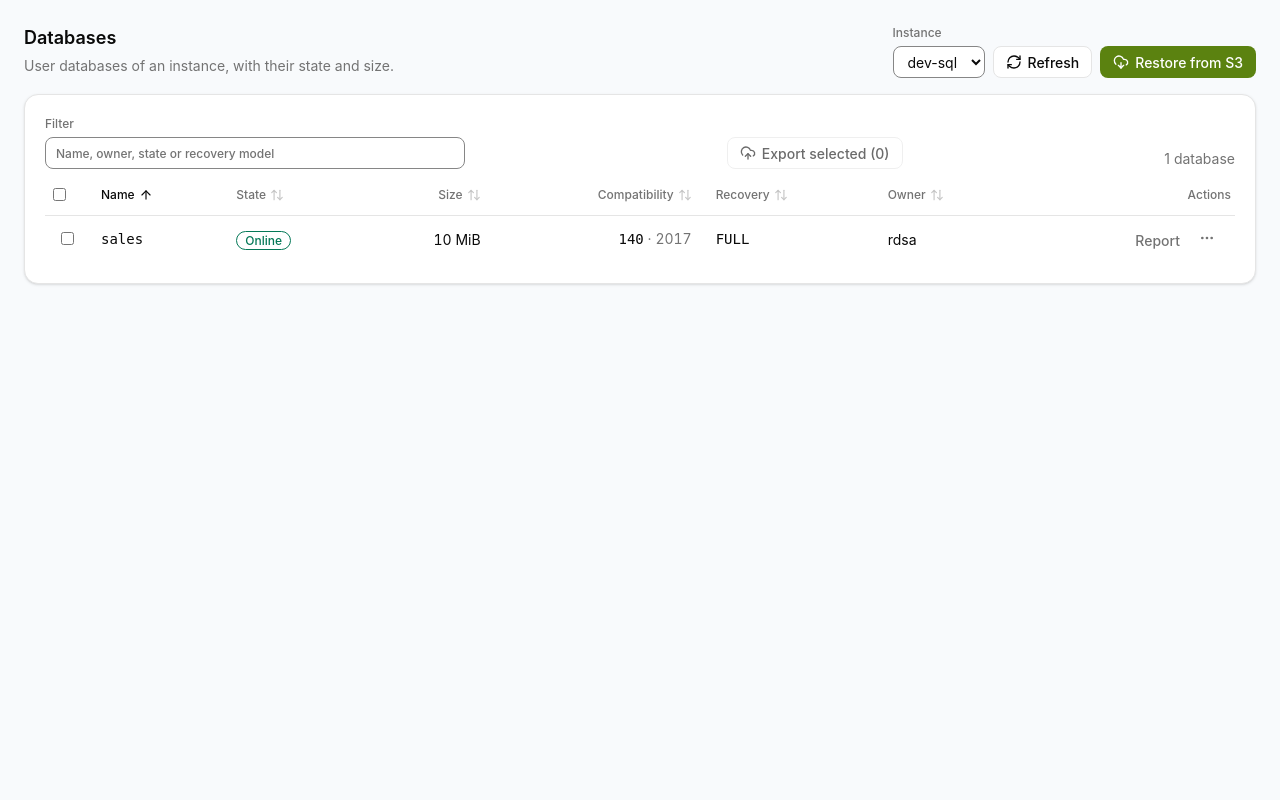
Test: Restore from S3 over an existing database › sends drop without the safety backup when it is switched off
Expected: the column heading "Actions" is shown, [1019,181,1235,215]
Click the button "Restore from S3" at (1178, 62), box [1100,46,1256,78]
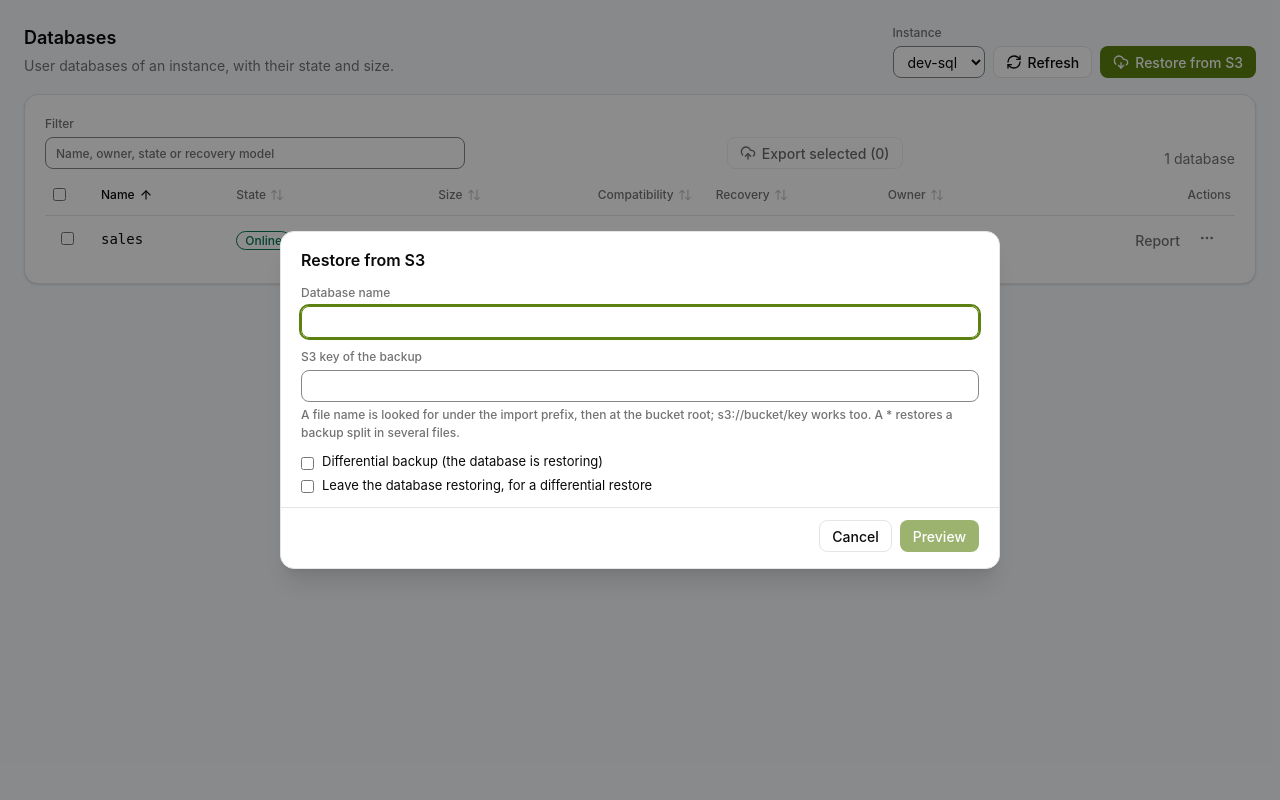
Type "sales" into the field labelled "Database name" at (640, 322), box [301,306,979,338]
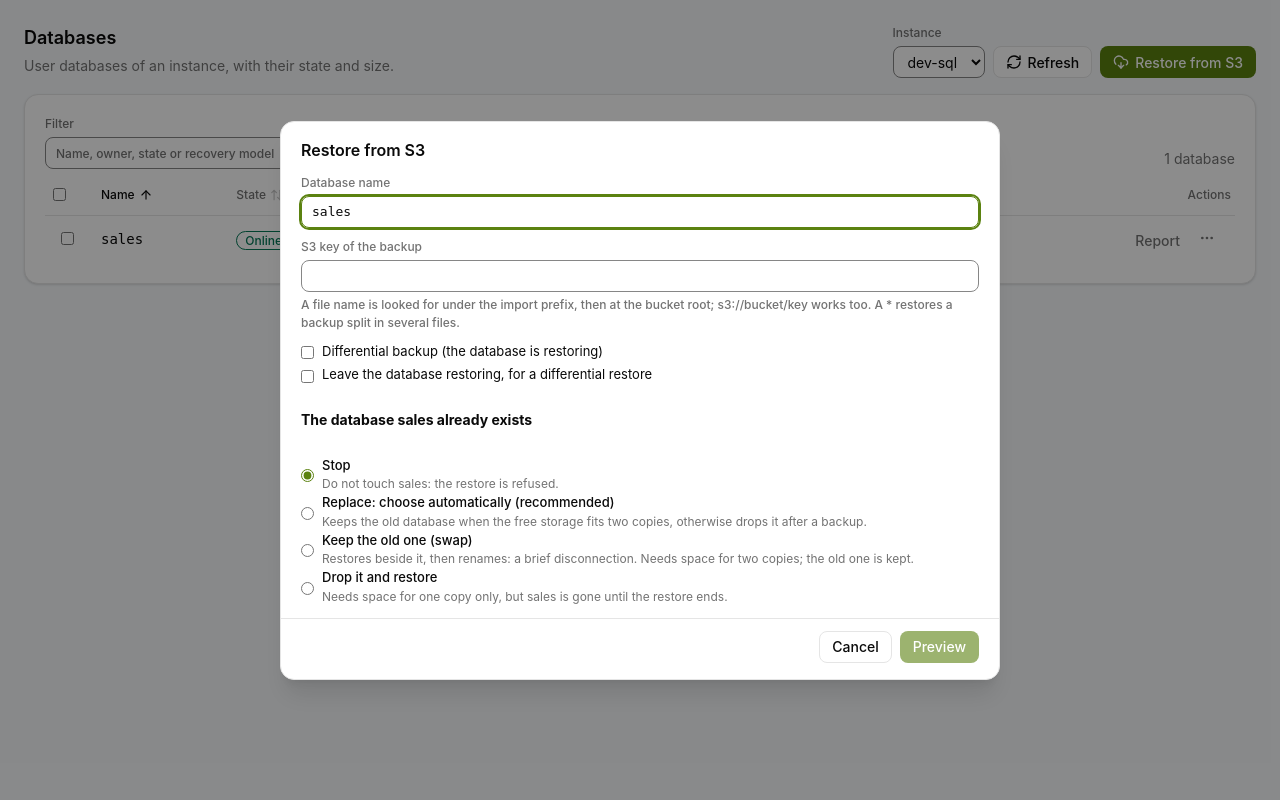
Type "sales.bak" into the field labelled "S3 key of the backup" at (640, 276), box [301,260,979,292]
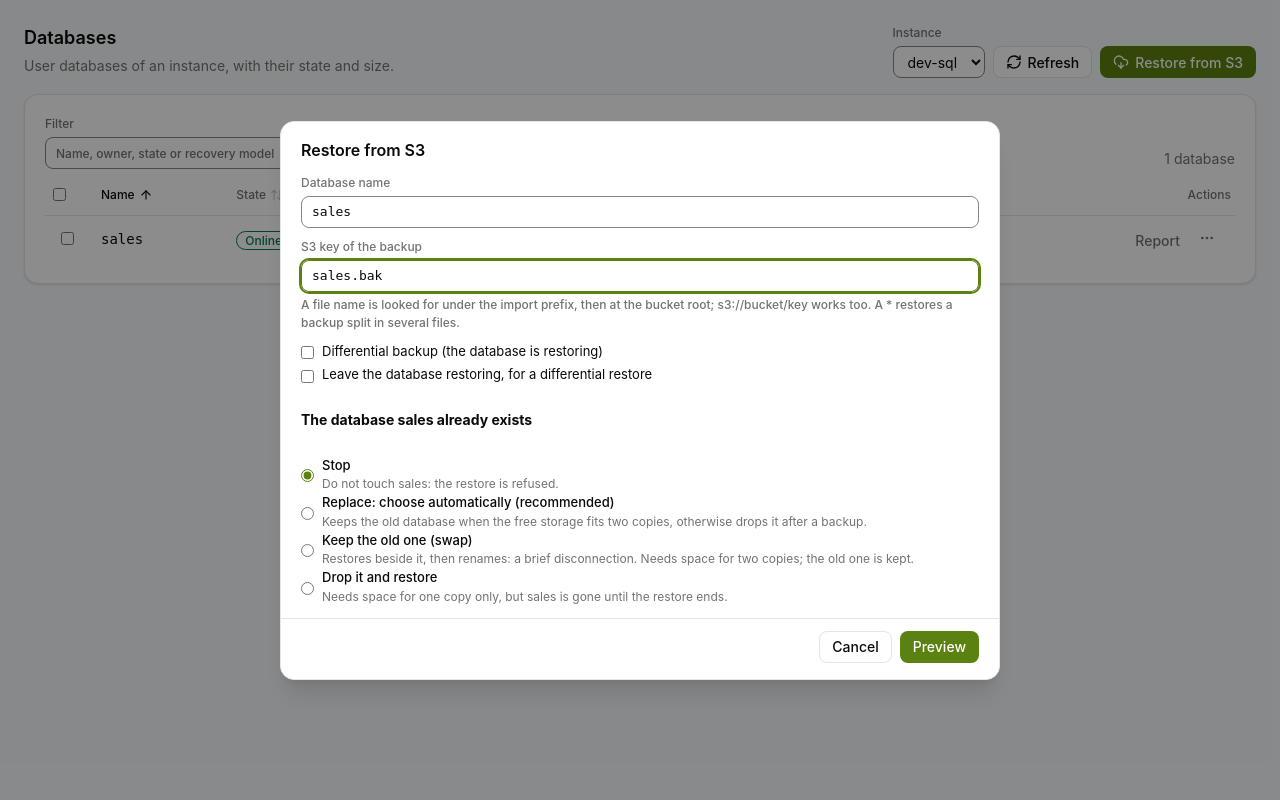
Click the radio button labelled "Drop it and restore" at (308, 588), box [301,582,314,595]
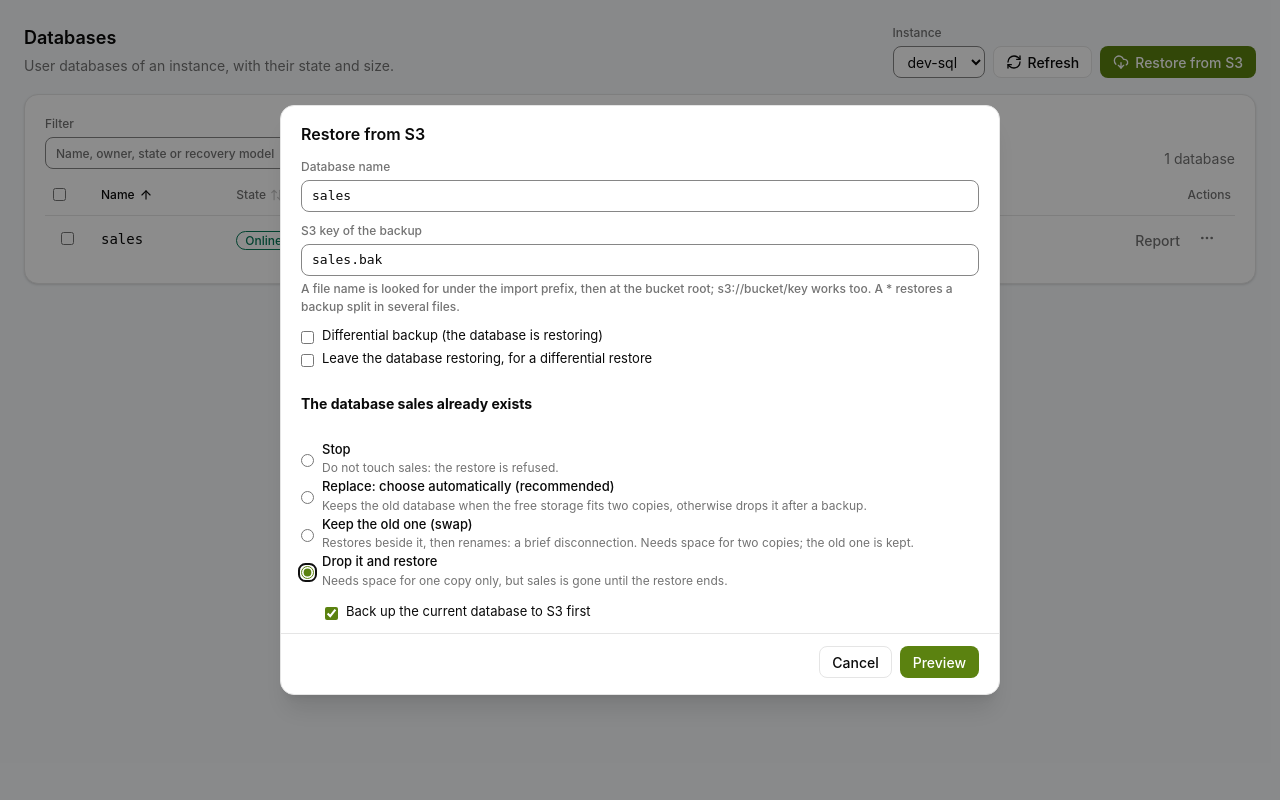
Click the checkbox labelled "Back up the current database to S3 first" at (332, 613), box [325,606,338,620]
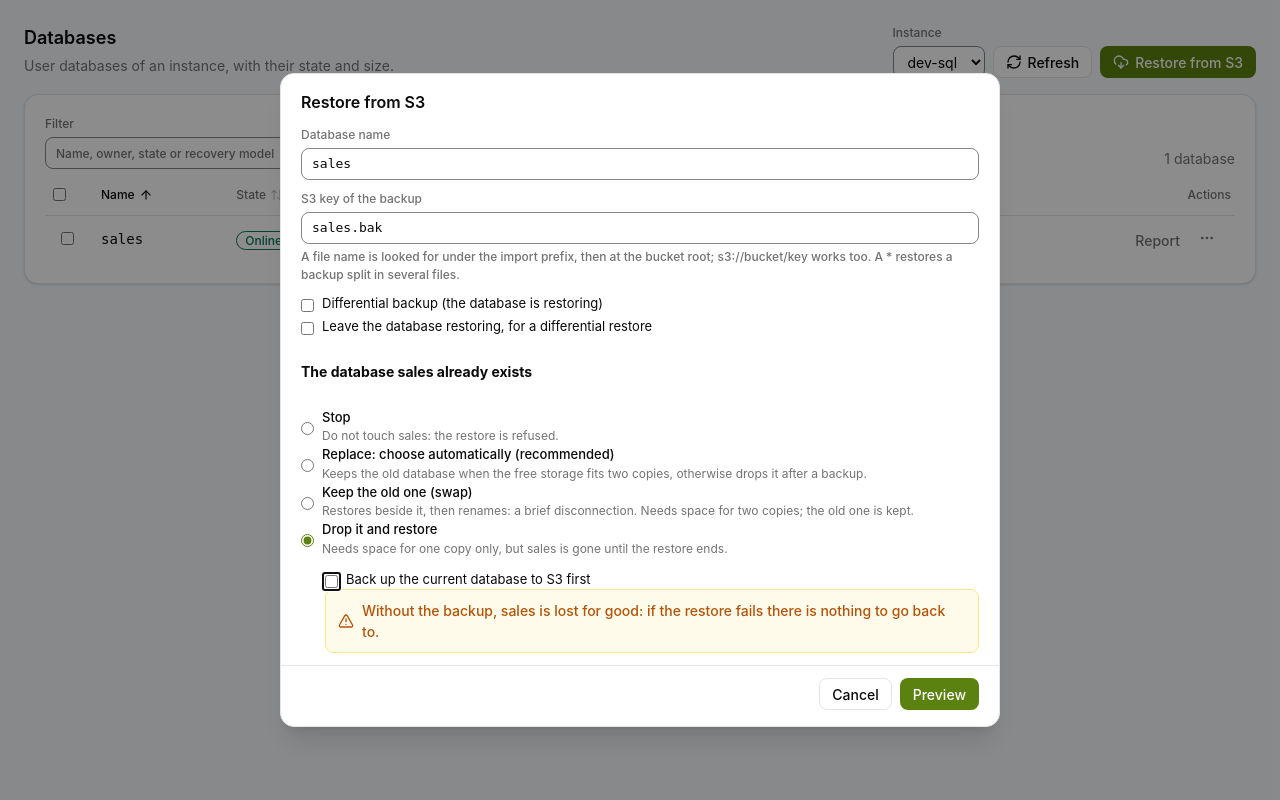
Expected: the message is shown, [325,589,979,653]
Click the button "Preview" at (939, 694), box [900,678,979,710]
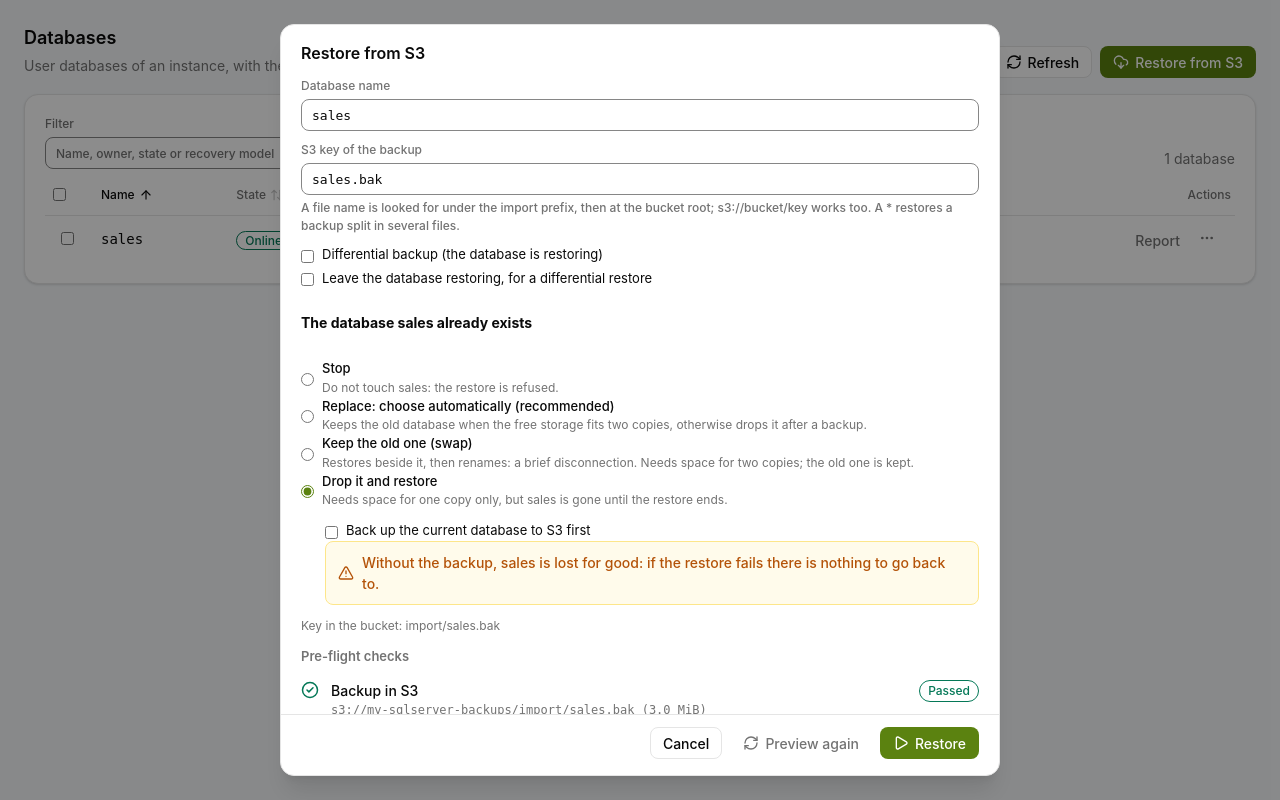
Expected: the button "Restore" is shown, [880,727,979,759]
